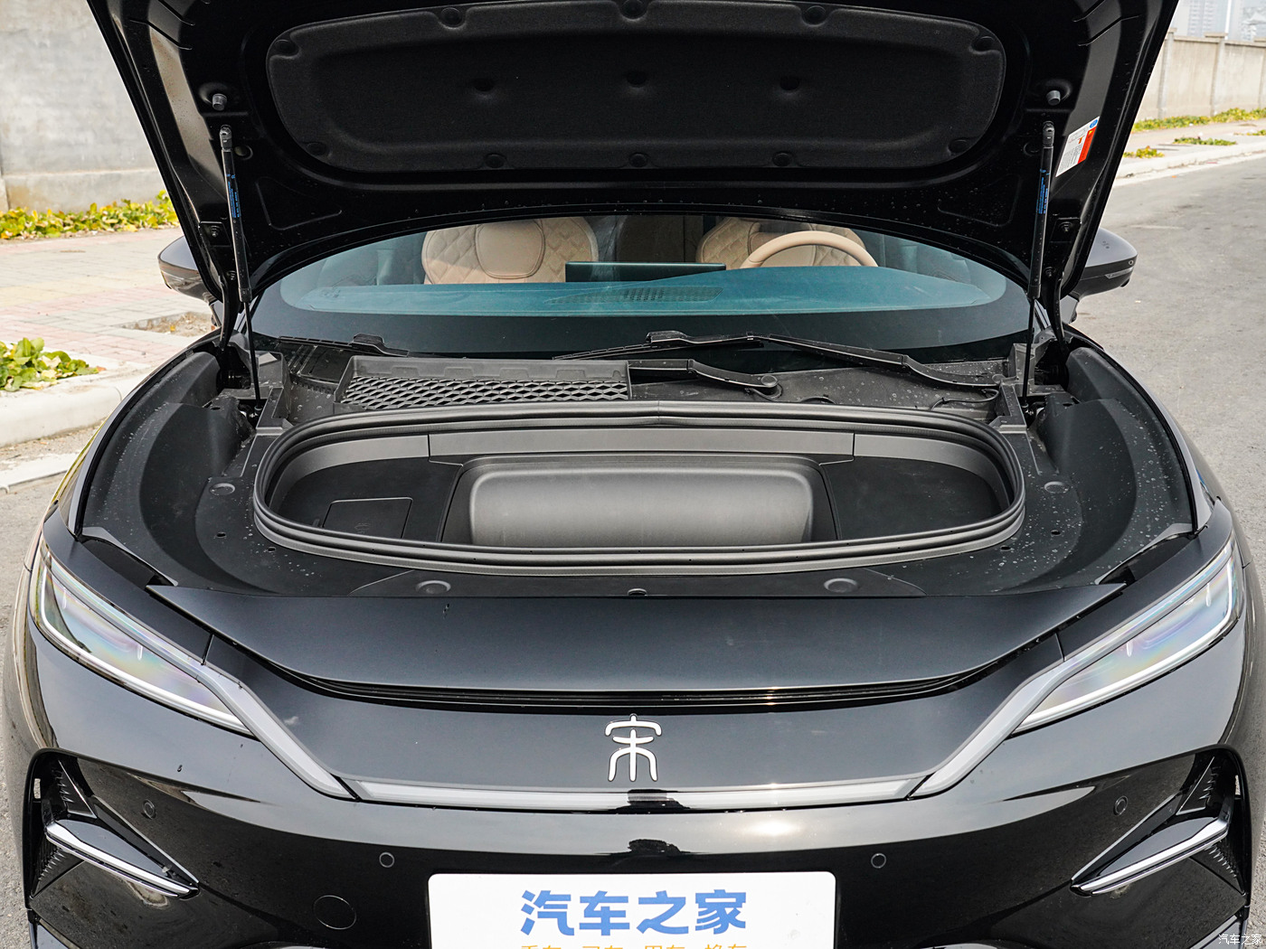BYD Song: (606, 716, 661, 781)
